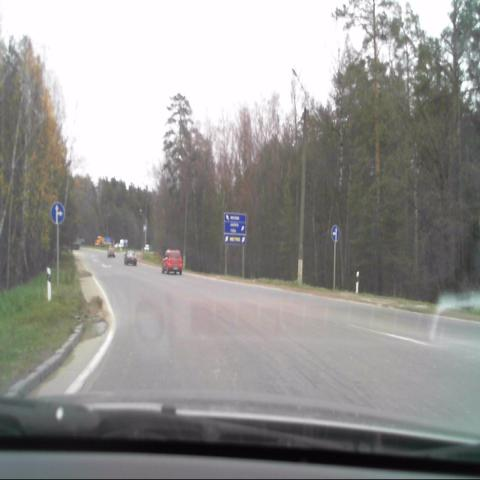4_1_4: (50, 201, 64, 227)
4_1_5: (330, 221, 342, 242)
